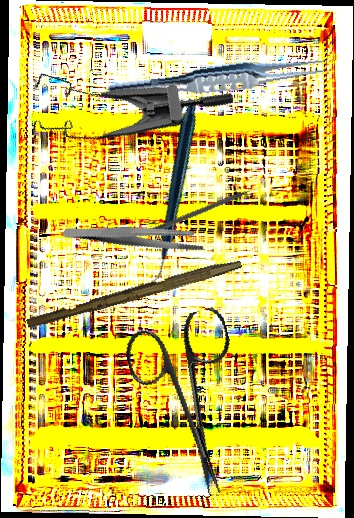Dressing Forceps: (62, 191, 207, 282)
Handpiece: (77, 97, 266, 284)
Iris Scissors: (119, 305, 268, 507)
Pusher: (146, 182, 267, 237)
Scalpel Handle: (25, 252, 243, 334)
Speculum: (13, 12, 236, 176)
Tissue Forceps: (104, 48, 334, 110)
